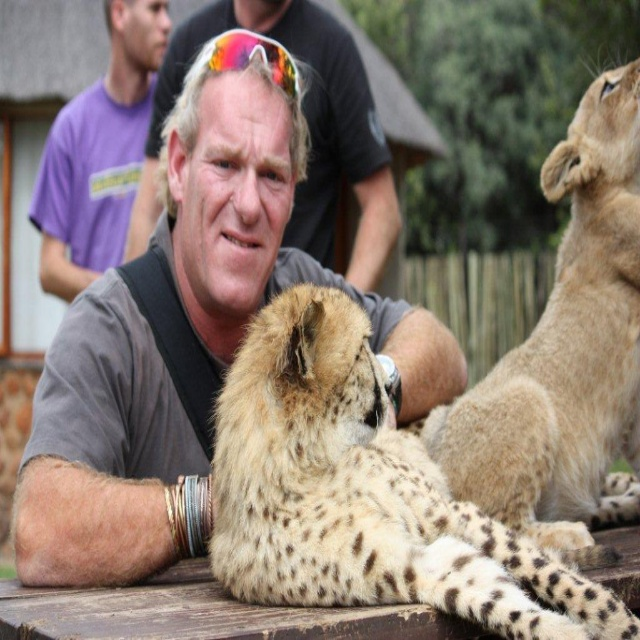Lion: (416, 59, 639, 548)
